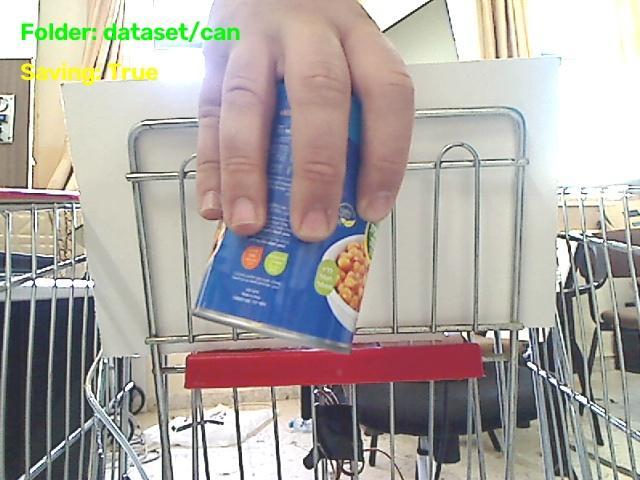can: (194, 84, 376, 351)
